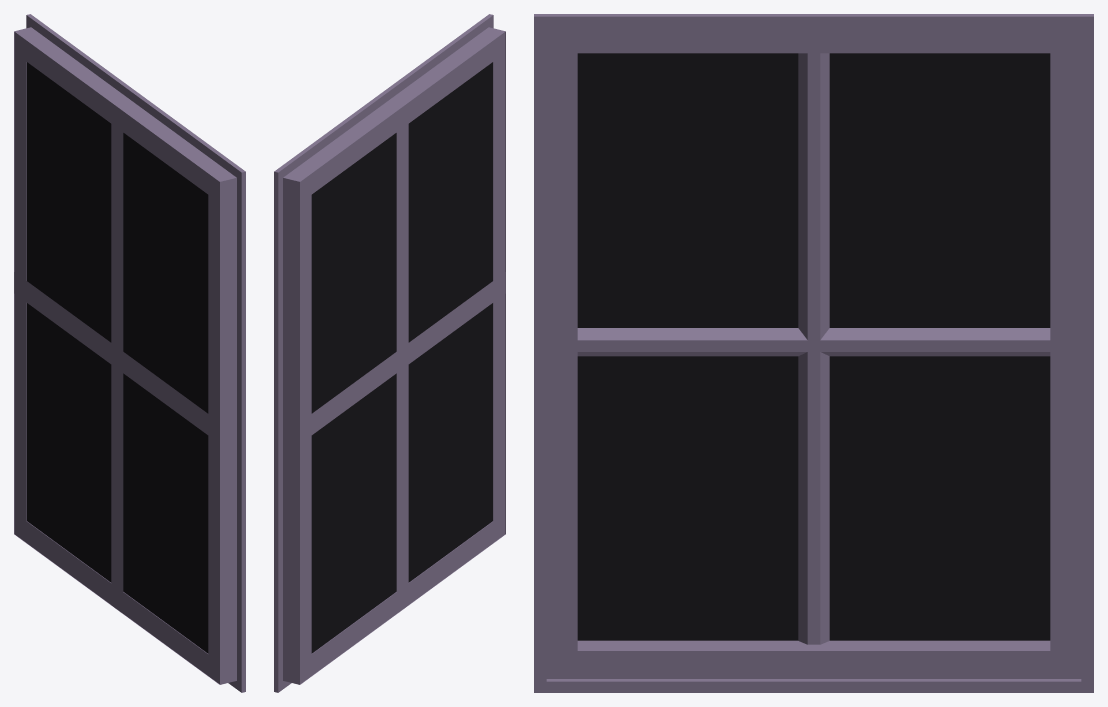
Rendered from Window01.fbx.
3 views of the same model, side by side, from view 1: azimuth 30°, elevation 25°; view 2: azimuth 150°, elevation 25°; view 3: azimuth 270°, elevation 25° (orthographic). The views are drawn at different scales.
Parts seen in each view (by area): view 1: FixedWindow001; view 2: FixedWindow001; view 3: FixedWindow001.
Part boxes in pixels (x1,y1,x2,y2): FixedWindow001: (14, 14, 245, 692); FixedWindow001: (274, 14, 505, 692); FixedWindow001: (534, 14, 1093, 692).
Bounding box in the file's own units: 5.13 × 120 × 90.
